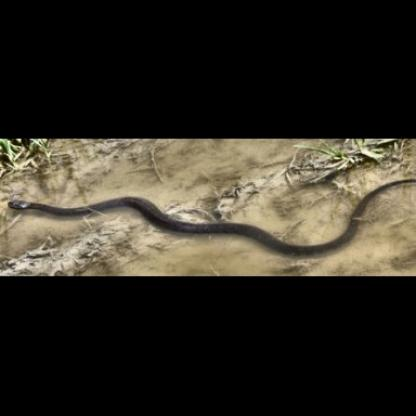Snake: (4, 180, 410, 260)
